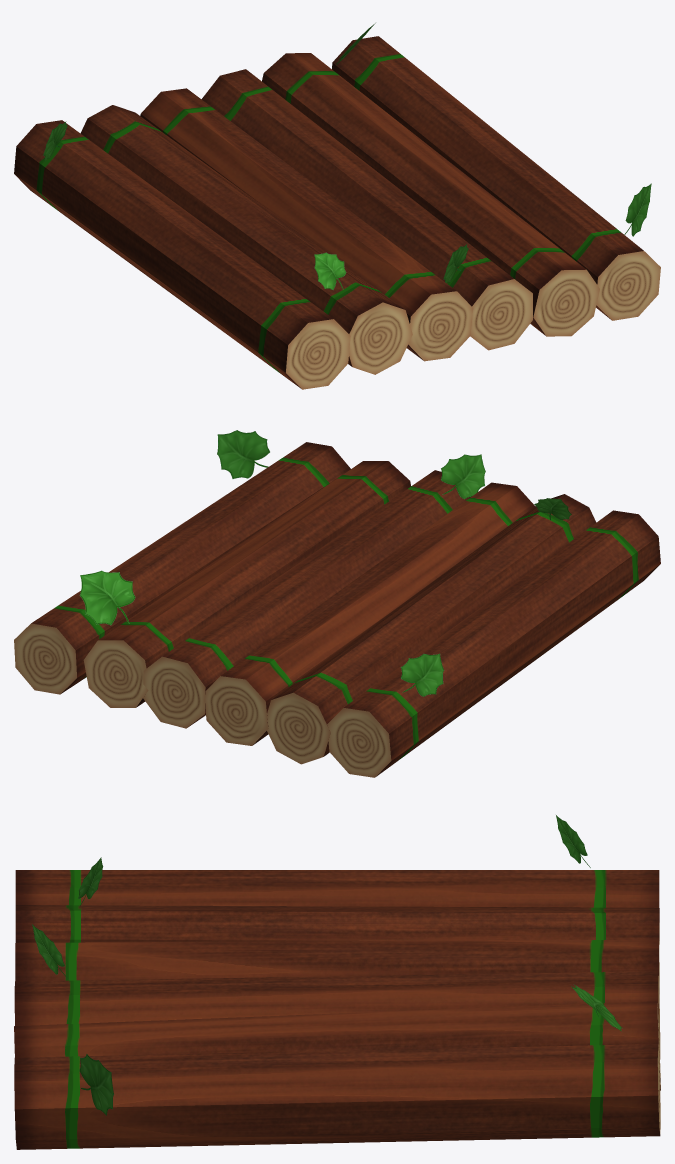
File: Raft_01_unity.fbx
The picture shows the model from 3 angles, top to bottom: view 1: azimuth 30°, elevation 25°; view 2: azimuth 150°, elevation 25°; view 3: azimuth 270°, elevation 25°; orthographic projection. The views are drawn at different scales.
Parts seen in each view (by area): view 1: Raft5, Raft1, Raft, Raft3, Raft2, Raft4, pPlane1, pPlane2; view 2: Raft5, Raft4, Raft3, Raft1, Raft2, Raft, pPlane5, pPlane2, pPlane3, pPlane4, pPlane1; view 3: Raft, Raft2, Raft1, Raft5, Raft4, Raft3, pPlane2, pPlane3, pPlane4, pPlane1, pPlane5.
Part boxes in pixels (x1=…): Raft5: x1=14, y1=120, x2=350, y2=389; Raft1: x1=262, y1=53, x2=599, y2=336; Raft: x1=332, y1=36, x2=660, y2=320; Raft3: x1=140, y1=88, x2=473, y2=361; Raft2: x1=201, y1=69, x2=532, y2=350; Raft4: x1=80, y1=105, x2=412, y2=374; pPlane1: x1=314, y1=252, x2=346, y2=289; pPlane2: x1=624, y1=183, x2=651, y2=236; Raft5: x1=327, y1=510, x2=660, y2=777; Raft4: x1=267, y1=494, x2=596, y2=764; Raft3: x1=205, y1=482, x2=535, y2=745; Raft1: x1=83, y1=461, x2=410, y2=707; Raft2: x1=143, y1=470, x2=470, y2=728; Raft: x1=14, y1=442, x2=350, y2=694; pPlane5: x1=79, y1=570, x2=135, y2=625; pPlane2: x1=217, y1=430, x2=269, y2=478; pPlane3: x1=441, y1=454, x2=485, y2=499; pPlane4: x1=400, y1=653, x2=444, y2=696; pPlane1: x1=534, y1=498, x2=571, y2=520; Raft: x1=14, y1=1044, x2=660, y2=1149; Raft2: x1=14, y1=971, x2=660, y2=1059; Raft1: x1=14, y1=1001, x2=660, y2=1090; Raft5: x1=15, y1=870, x2=659, y2=907; Raft4: x1=15, y1=905, x2=659, y2=944; Raft3: x1=15, y1=939, x2=659, y2=993; pPlane2: x1=79, y1=1054, x2=114, y2=1115; pPlane3: x1=32, y1=924, x2=68, y2=979; pPlane4: x1=556, y1=815, x2=590, y2=867; pPlane1: x1=78, y1=857, x2=103, y2=907; pPlane5: x1=571, y1=984, x2=622, y2=1031.
Bounding box in the file's own units: 13.43 × 3.79 × 14.77.
